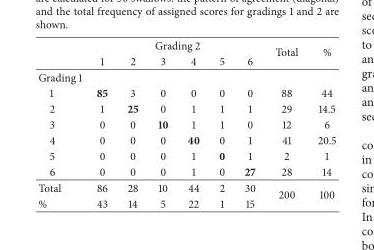table: (37, 37, 335, 210)
table column: (37, 37, 88, 210), (264, 37, 307, 210), (116, 37, 147, 210), (177, 37, 208, 210), (147, 37, 177, 210), (234, 37, 264, 210), (88, 37, 116, 210), (307, 37, 335, 210), (208, 37, 234, 210)
table column header: (37, 37, 335, 68)
table projected row header: (37, 68, 335, 84)
table row: (37, 52, 335, 68), (37, 68, 335, 84), (37, 84, 335, 100), (37, 115, 335, 131), (37, 131, 335, 147), (37, 147, 335, 163), (37, 163, 335, 179), (37, 179, 335, 195), (37, 37, 335, 52), (37, 100, 335, 115), (37, 195, 335, 210)
table spanning cell: (88, 37, 264, 52), (264, 37, 307, 68), (264, 179, 307, 210), (307, 37, 335, 68), (307, 179, 335, 210)
